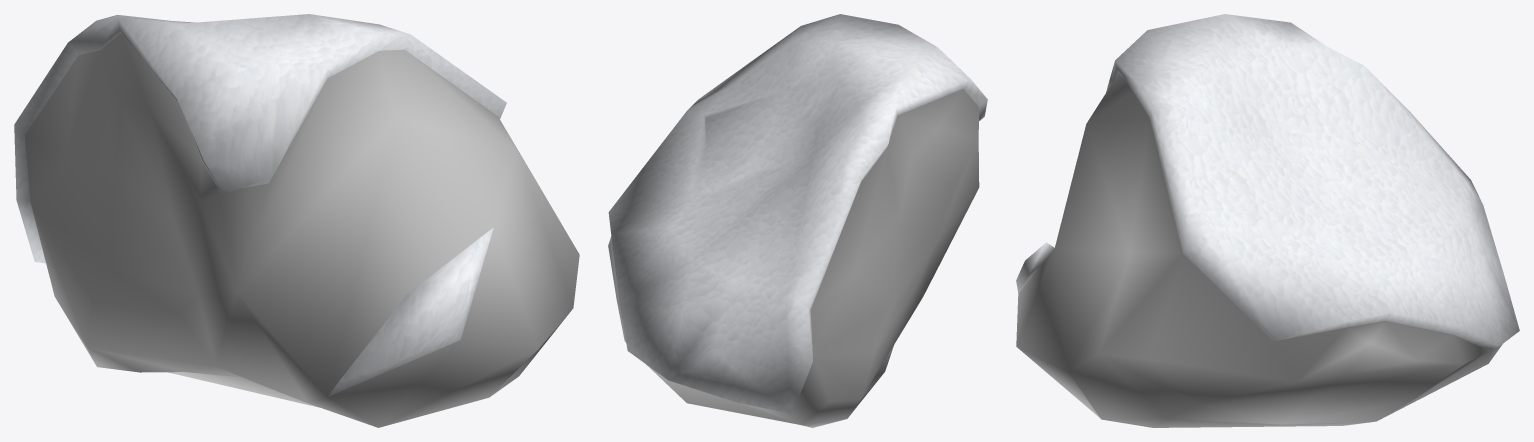
File: rock_s06c.fbx
3 views of the same model, side by side, from view 1: azimuth 30°, elevation 25°; view 2: azimuth 150°, elevation 25°; view 3: azimuth 270°, elevation 25° (orthographic). The views are drawn at different scales.
Parts seen in each view (by area): view 1: rock_s06c; view 2: rock_s06c; view 3: rock_s06c.
Boxes of the visible parts, box(x1,y1,x2,y2) form: rock_s06c: box(14, 14, 579, 427); rock_s06c: box(608, 14, 987, 427); rock_s06c: box(1016, 14, 1519, 427).
Bounding box in the file's own units: 253 × 263 × 353.
